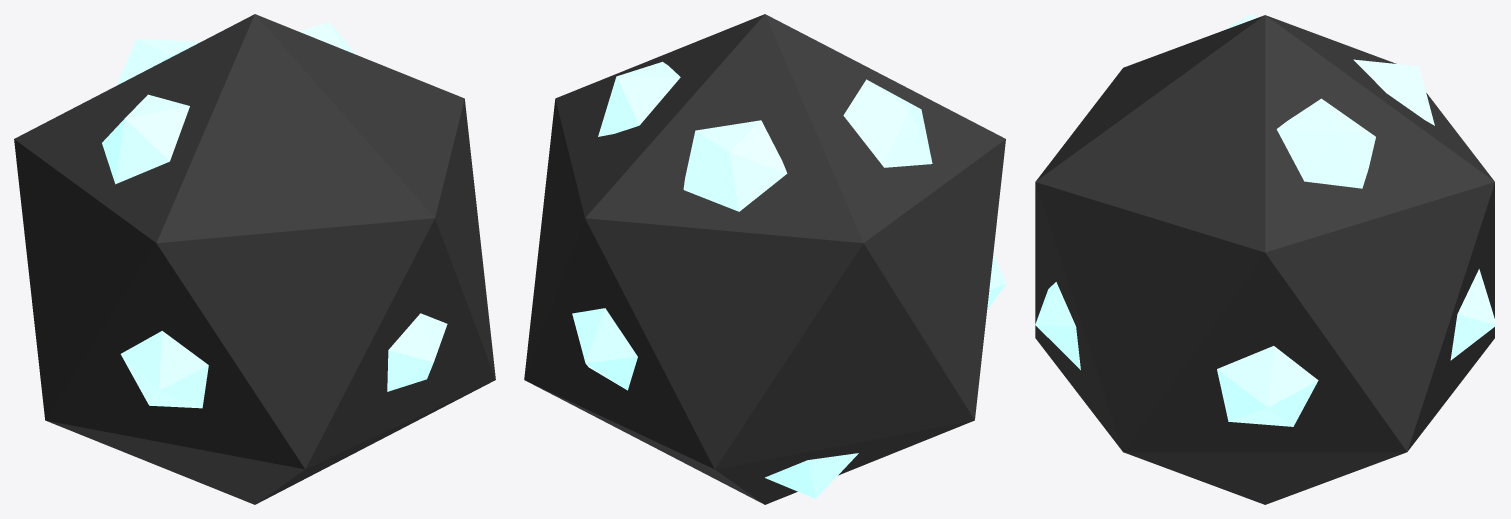
The model's file is Ore.fbx.
3 renders of one model, left to right at view 1: azimuth 30°, elevation 25°; view 2: azimuth 150°, elevation 25°; view 3: azimuth 270°, elevation 25°, orthographic.
Visible parts, largest first — view 1: Icosphere; view 2: Icosphere; view 3: Icosphere.
Boxes of the visible parts, x1=… form: Icosphere: x1=14, y1=14, x2=495, y2=504; Icosphere: x1=524, y1=14, x2=1006, y2=504; Icosphere: x1=1035, y1=14, x2=1496, y2=504.
Bounding box in the file's own units: 2 × 1.79 × 1.71.
